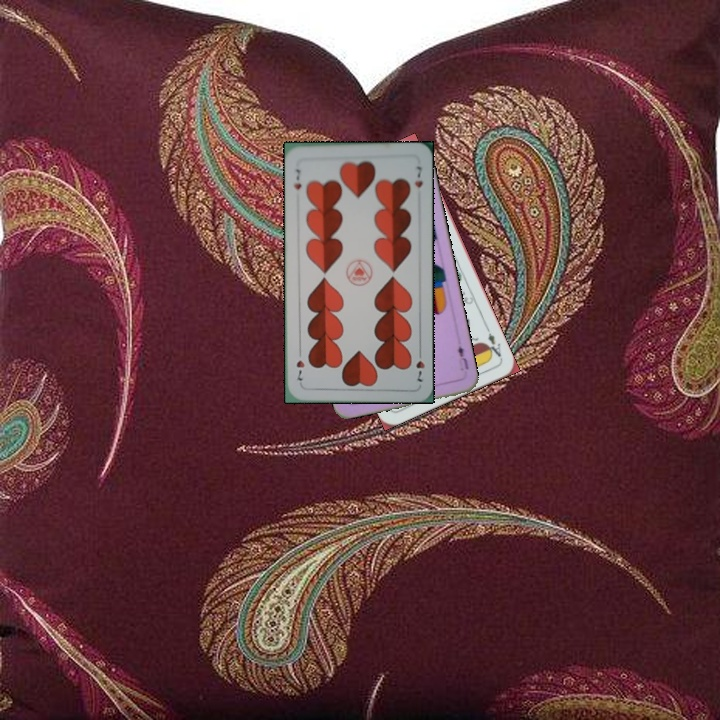EA: (481, 323, 504, 360)
EU: (454, 341, 471, 372)
H7: (412, 346, 427, 384), (290, 165, 304, 192)
